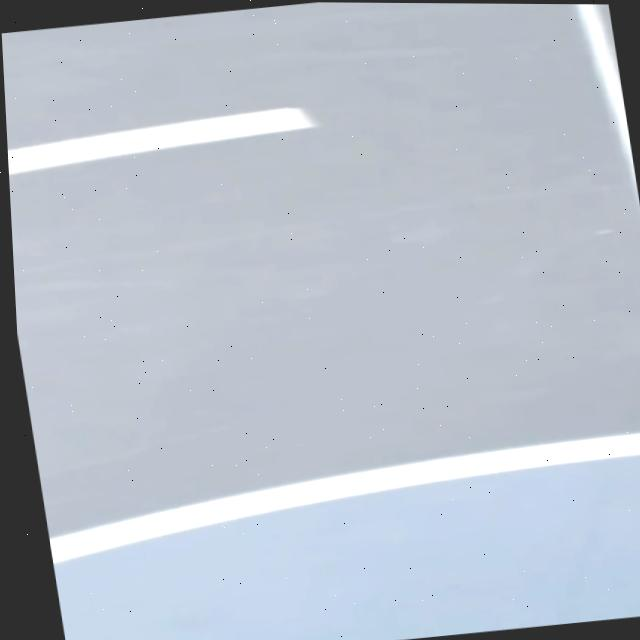center: (8, 106, 318, 174)
left: (49, 433, 640, 563)
